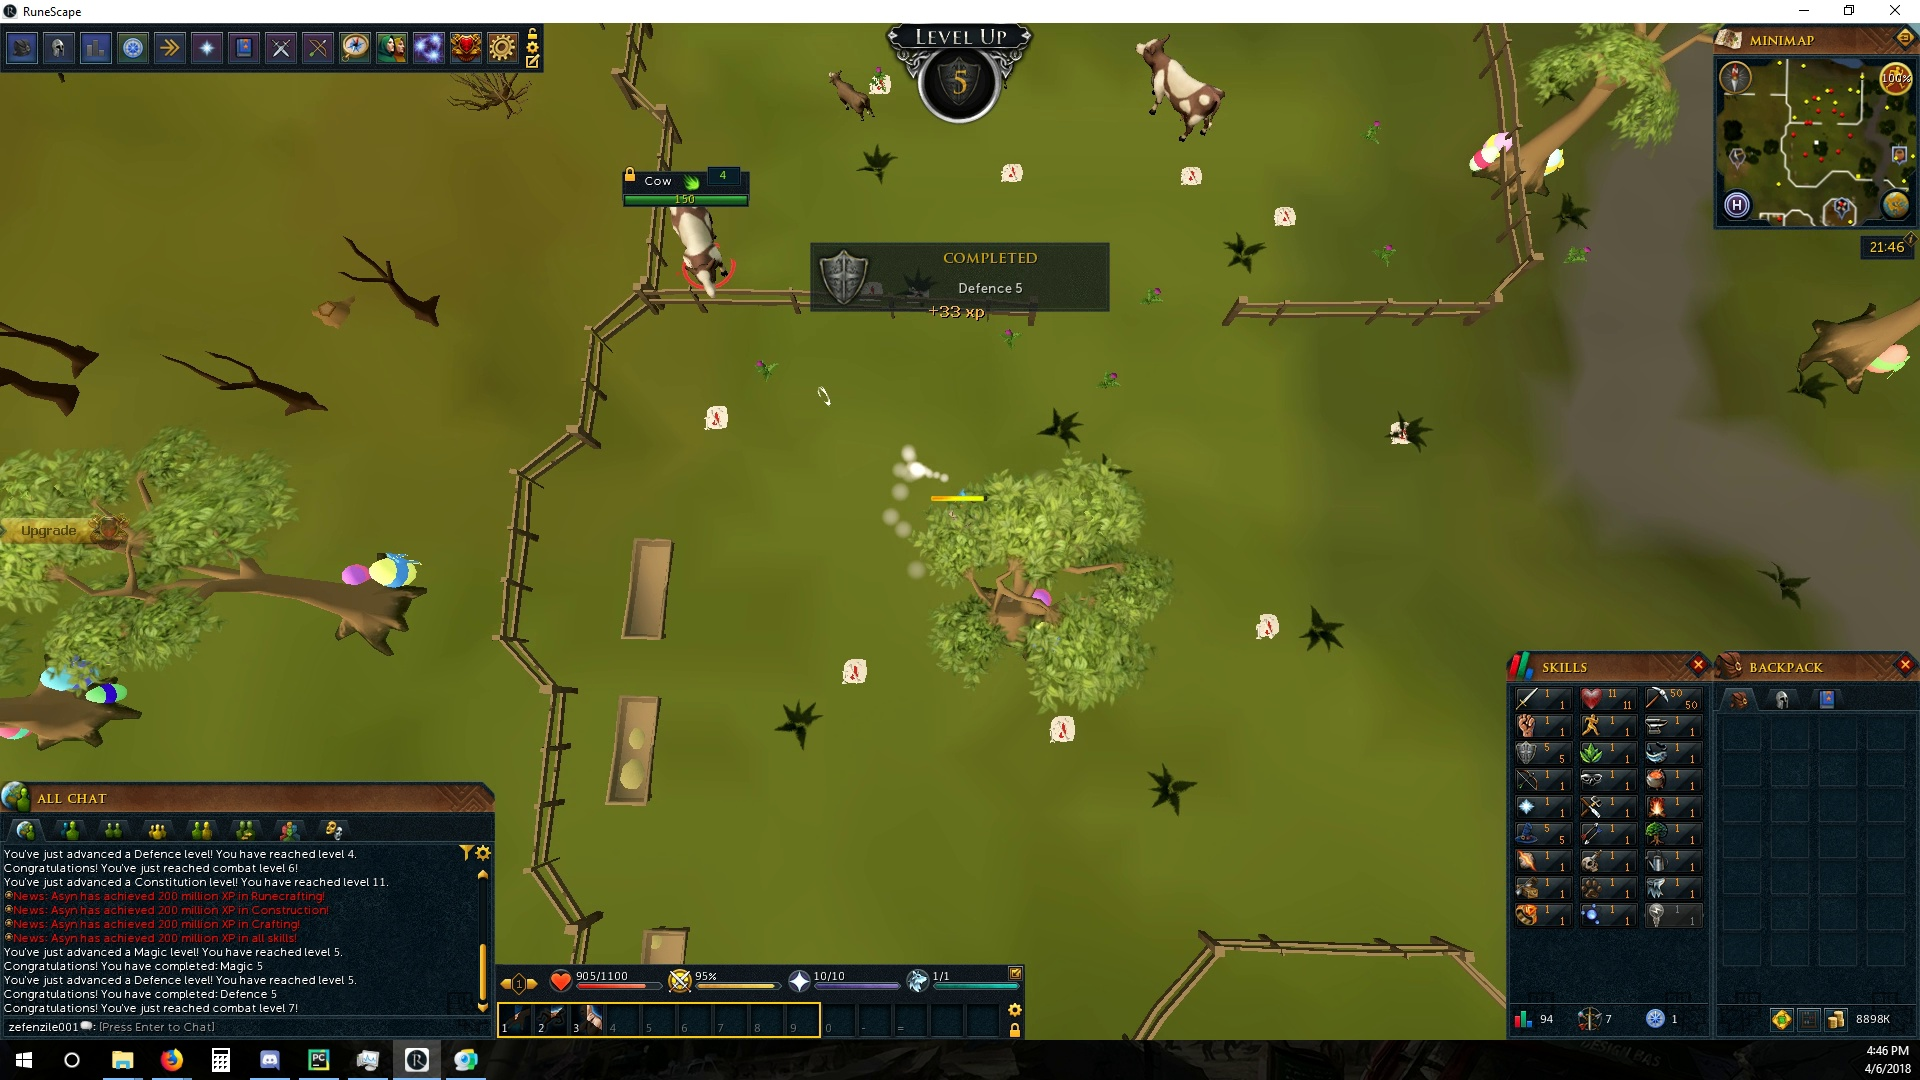calf: (823, 69, 876, 123)
cow: (1129, 28, 1228, 146), (663, 206, 736, 298)
cow_drop: (1044, 716, 1079, 750), (1387, 415, 1422, 447), (837, 654, 869, 686), (1251, 611, 1282, 640), (1269, 202, 1300, 228), (996, 161, 1029, 186), (702, 404, 728, 431), (1179, 160, 1203, 185)
